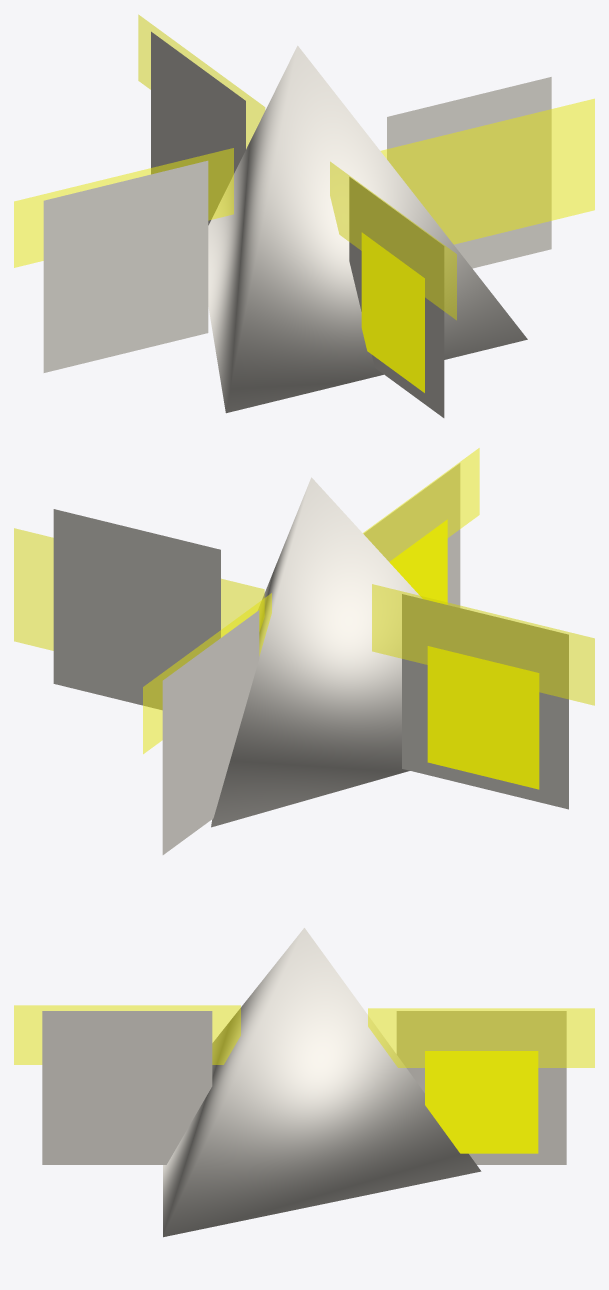
Rendered from triangular-pyramid.glb.
3 renders of one model, top to bottom at view 1: azimuth 30°, elevation 25°; view 2: azimuth 150°, elevation 25°; view 3: azimuth 270°, elevation 25°, orthographic. The views are drawn at different scales.
Visible parts, largest first — view 1: TriQR_Body, TriQR_Label (×4), TriQR_FaceSurface_face-3, TriQR_FaceSurface_name-face, TriQR_FaceSurface_face-4, TriQR_FaceSurface_face-2, TriQR_QR_face-2; view 2: TriQR_Body, TriQR_Label (×4), TriQR_FaceSurface_name-face, TriQR_FaceSurface_face-3, TriQR_FaceSurface_face-4, TriQR_QR_face-3, TriQR_FaceSurface_face-2, TriQR_QR_face-2; view 3: TriQR_Body, TriQR_FaceSurface_face-2, TriQR_Label (×2), TriQR_FaceSurface_face-4, TriQR_QR_face-4.
Boxes of the visible parts, x1=… form: TriQR_Body: x1=208, y1=45, x2=527, y2=413; TriQR_Label (×4): x1=14, y1=14, x2=594, y2=320; TriQR_FaceSurface_face-3: x1=43, y1=160, x2=208, y2=372; TriQR_FaceSurface_name-face: x1=387, y1=77, x2=551, y2=268; TriQR_FaceSurface_face-4: x1=151, y1=31, x2=245, y2=225; TriQR_FaceSurface_face-2: x1=349, y1=177, x2=444, y2=417; TriQR_QR_face-2: x1=361, y1=232, x2=424, y2=392; TriQR_Body: x1=211, y1=477, x2=422, y2=827; TriQR_Label (×4): x1=14, y1=448, x2=594, y2=753; TriQR_FaceSurface_name-face: x1=53, y1=509, x2=220, y2=709; TriQR_FaceSurface_face-3: x1=402, y1=594, x2=568, y2=809; TriQR_FaceSurface_face-4: x1=162, y1=610, x2=259, y2=854; TriQR_QR_face-3: x1=427, y1=646, x2=539, y2=789; TriQR_FaceSurface_face-2: x1=364, y1=463, x2=460, y2=607; TriQR_QR_face-2: x1=389, y1=519, x2=447, y2=604; TriQR_Body: x1=163, y1=928, x2=481, y2=1237; TriQR_FaceSurface_face-2: x1=42, y1=1011, x2=212, y2=1164; TriQR_Label (×2): x1=14, y1=1005, x2=594, y2=1067; TriQR_FaceSurface_face-4: x1=396, y1=1011, x2=566, y2=1164; TriQR_QR_face-4: x1=425, y1=1051, x2=538, y2=1153.
Size of the model in its own units: 4.2 by 1.9 by 4.1.
Materials: 12 (7 with a texture image).
